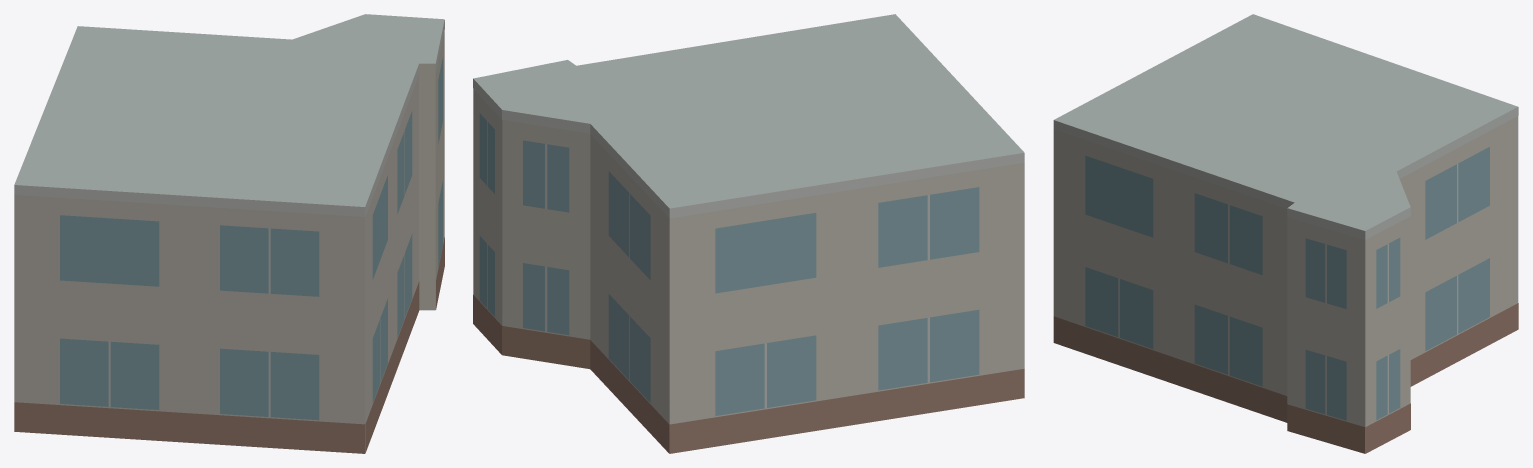
File: survey-upis-32501823.glb
3 renders of one model, left to right at view 1: azimuth 30°, elevation 25°; view 2: azimuth 150°, elevation 25°; view 3: azimuth 270°, elevation 25°, orthographic. The views are drawn at different scales.
Visible parts, largest first — view 1: survey-upis-32501823.tmp; view 2: survey-upis-32501823.tmp; view 3: survey-upis-32501823.tmp.
Part boxes in pixels (box(x1,y1,x2,y2)): survey-upis-32501823.tmp: box(14, 14, 444, 453); survey-upis-32501823.tmp: box(473, 14, 1024, 453); survey-upis-32501823.tmp: box(1053, 14, 1518, 453).
Size of the model in its own units: 12.75 by 6.1 by 11.54.
